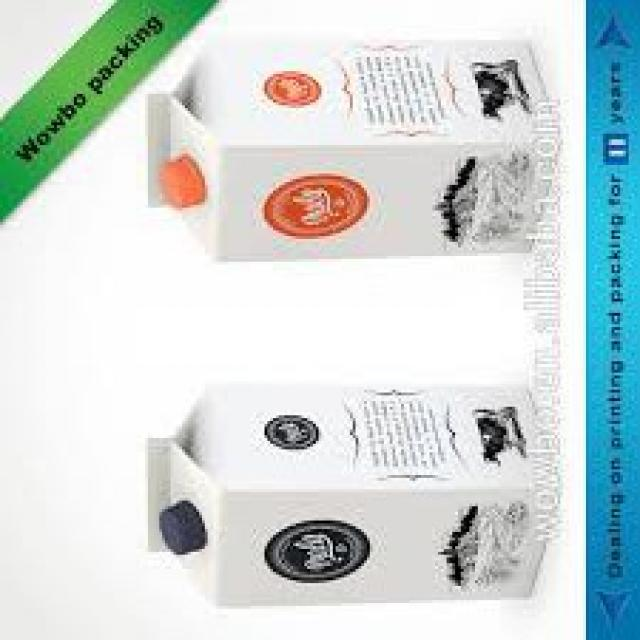non_white_jug: (138, 382, 560, 608), (143, 34, 561, 262)
